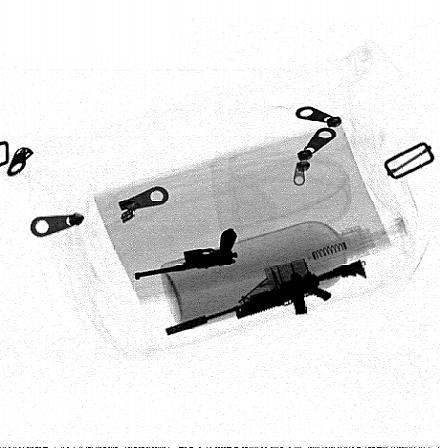Gun: (165, 259, 368, 336), (134, 227, 238, 281)
